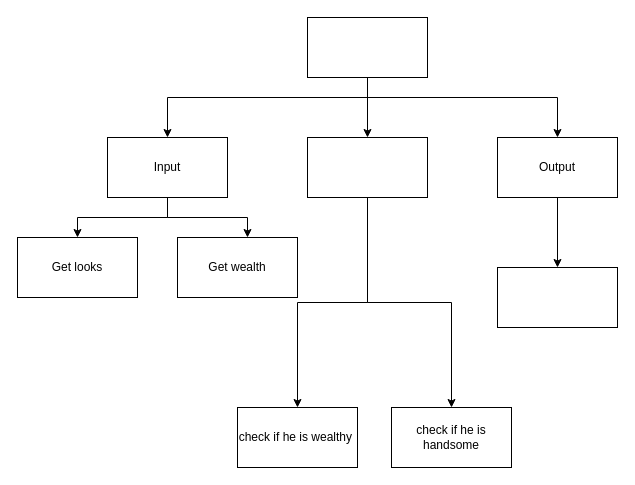
Image size: 635x485. Some labels were removed from this diagram. Here are the shapes that lost their labels. From the top down, the centre of each, then its label:
[367,47]: Dating
[367,167]: Process
[557,297]: Show answer accordingly
